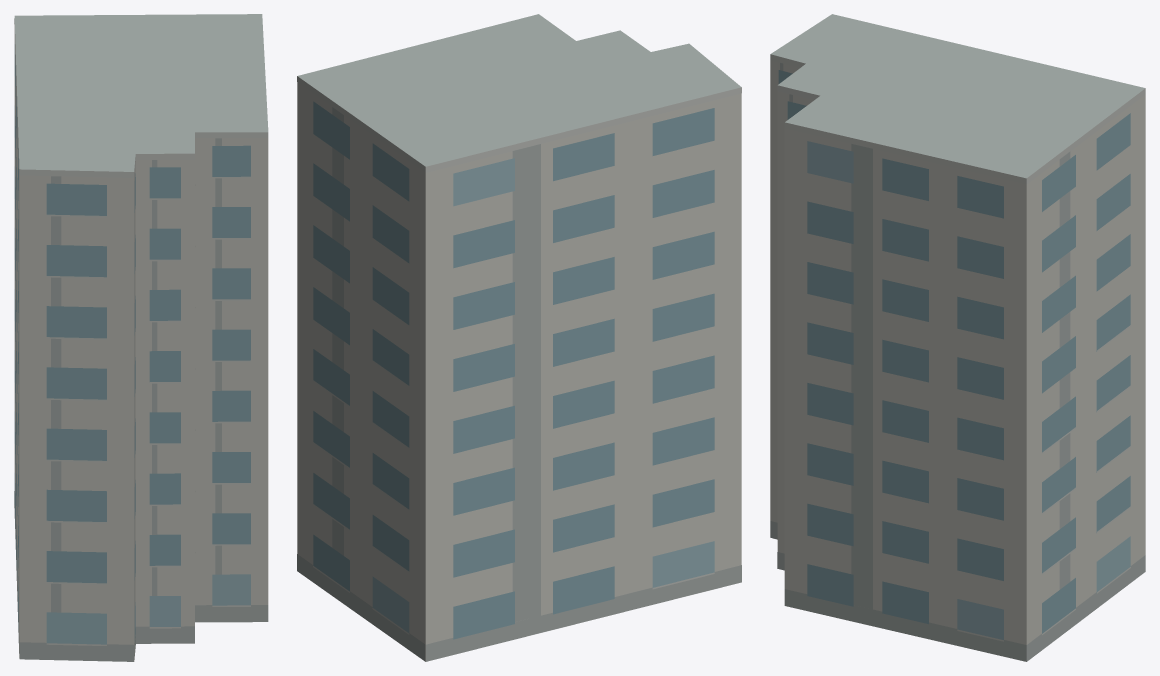
File: survey-upis-32807648.glb
3 views of the same model, side by side, from view 1: azimuth 30°, elevation 25°; view 2: azimuth 150°, elevation 25°; view 3: azimuth 270°, elevation 25° (orthographic). The views are drawn at different scales.
Parts seen in each view (by area): view 1: survey-upis-32807648.tmp; view 2: survey-upis-32807648.tmp; view 3: survey-upis-32807648.tmp.
Boxes of the visible parts, x1,y1,x2,y2 form: survey-upis-32807648.tmp: (14, 14, 268, 661); survey-upis-32807648.tmp: (297, 14, 741, 661); survey-upis-32807648.tmp: (770, 14, 1145, 661).
Size of the model in its own units: 14.37 by 19.7 by 13.87.
